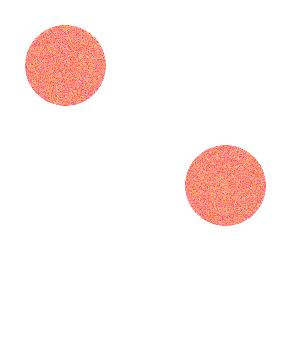E: (18, 19, 274, 334)
